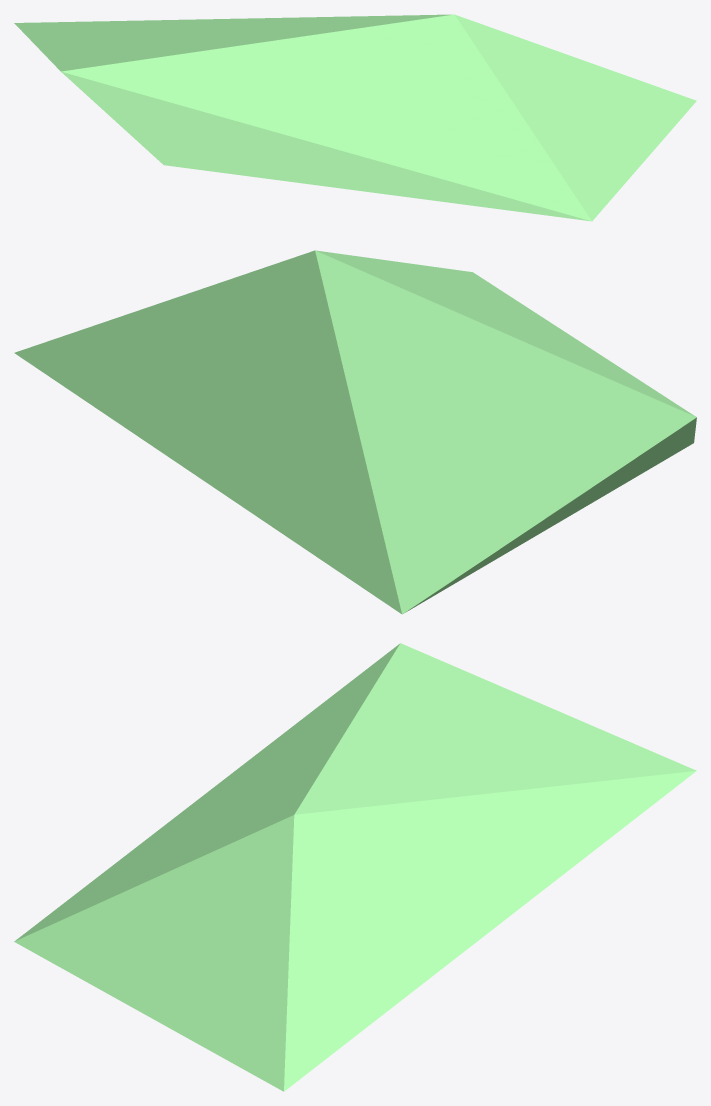
Rendered from UMIRobot_UMIRobot_link_3_convex_coll_1.dae.
3 views of the same model, one above another, from view 1: azimuth 30°, elevation 25°; view 2: azimuth 150°, elevation 25°; view 3: azimuth 270°, elevation 25° (orthographic). The views are drawn at different scales.
Parts seen in each view (by area): view 1: node; view 2: node; view 3: node.
Part boxes in pixels (x1,y1,x2,y2): node: [14, 14, 696, 221]; node: [14, 250, 696, 614]; node: [14, 643, 696, 1091].
Size of the model in its own units: 0.0103 by 0.00238 by 0.00971.
